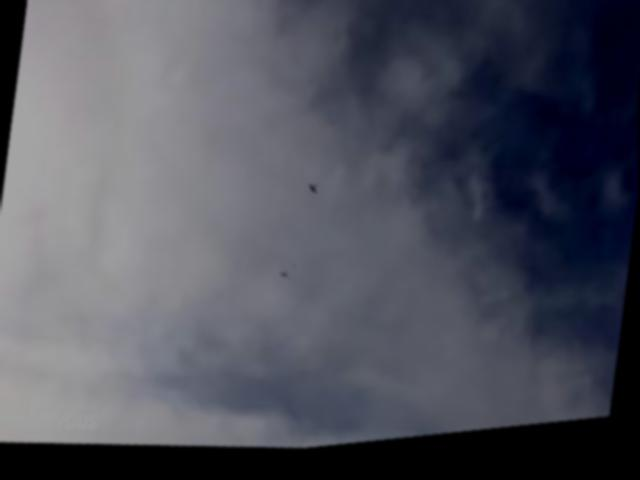uav: (306, 186, 321, 202)
